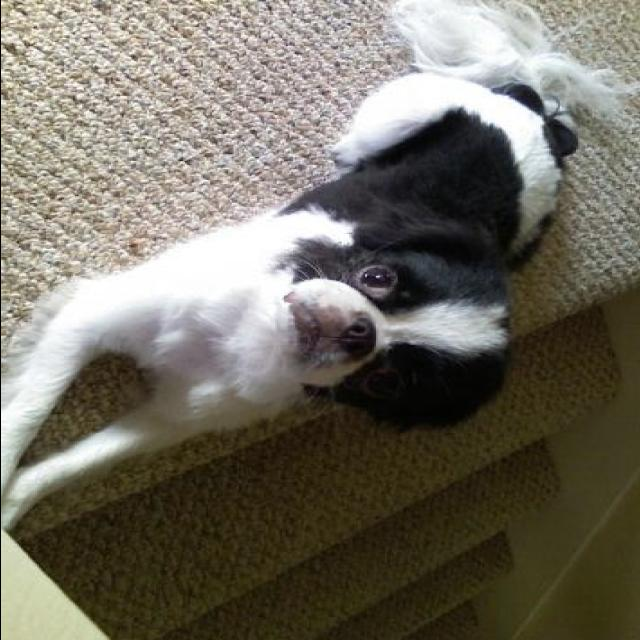husky: (2, 1, 638, 529)
